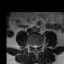CCS_normal: (34, 43, 36, 52)
LFS_normal: (38, 42, 40, 49)
LLS_normal: (36, 43, 38, 50)
RFS_normal: (30, 42, 32, 49)
RLS_normal: (32, 43, 34, 49)
